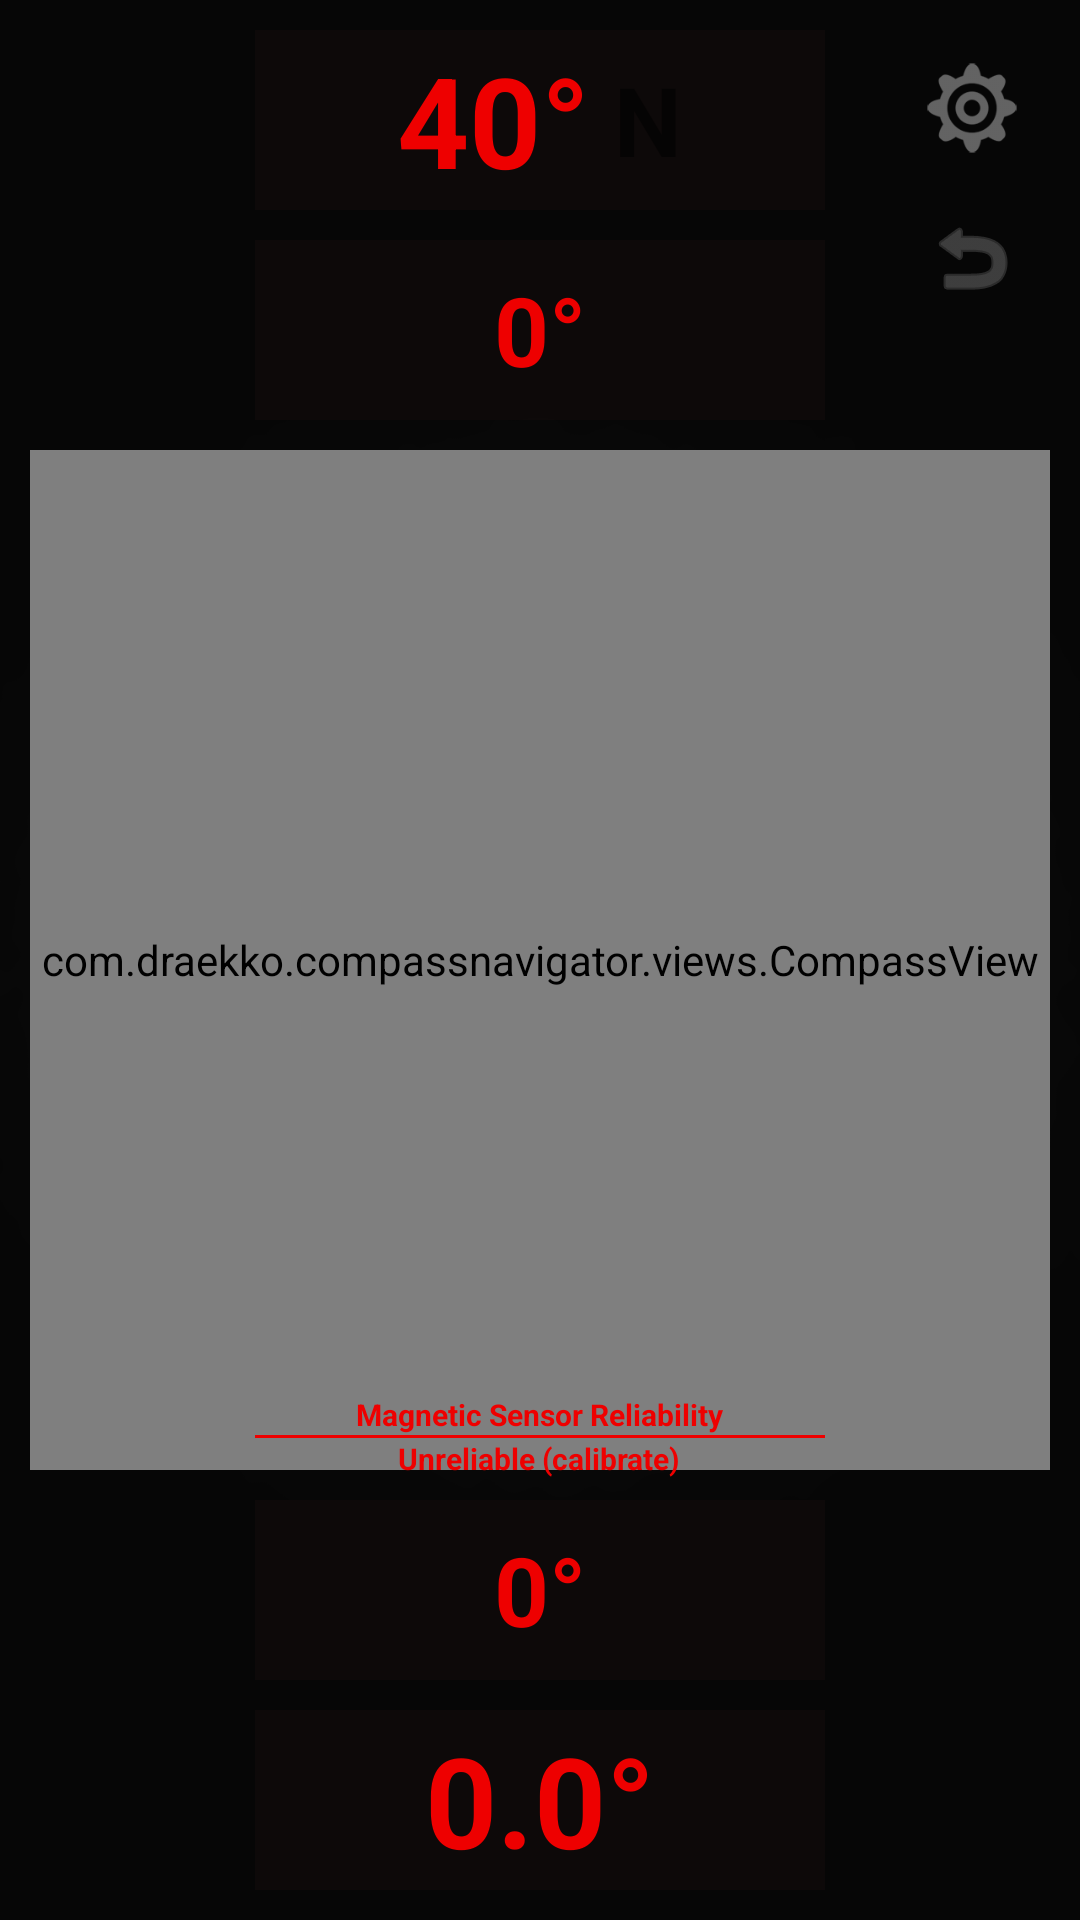

Screen size 1080 × 1920. Icon name, then its box in pixels as detection(x1, y1, x2, y2):
gear: detection(927, 63, 1017, 153)
revert: detection(939, 228, 1007, 289)
